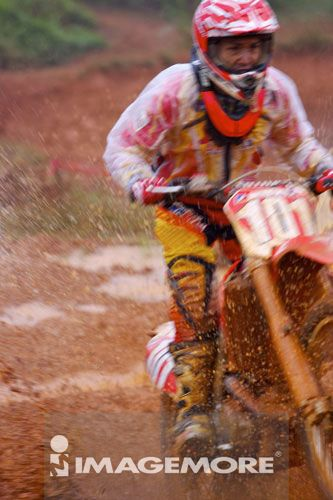helmet: (189, 4, 279, 86)
